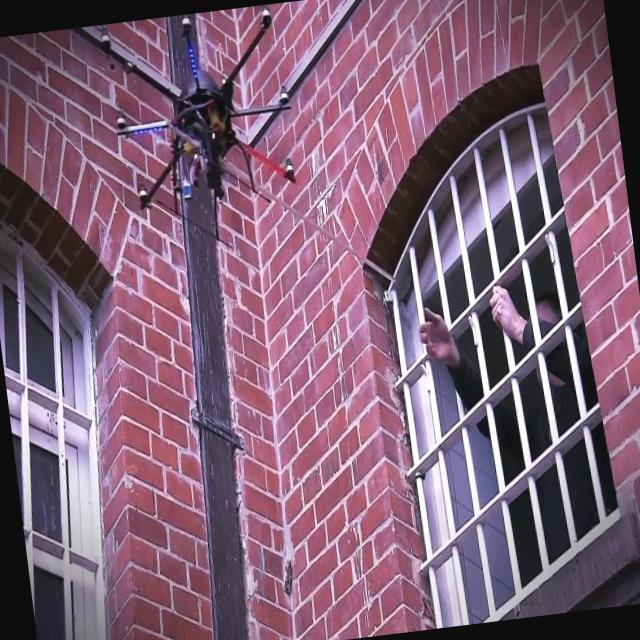drone: (102, 2, 312, 264)
